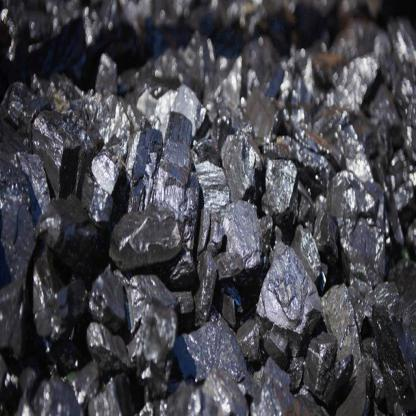Sedimentary_coal: (193, 180, 271, 304), (332, 168, 393, 294), (118, 257, 180, 372), (253, 235, 324, 330), (25, 106, 93, 201), (150, 111, 202, 197), (247, 82, 288, 149)
